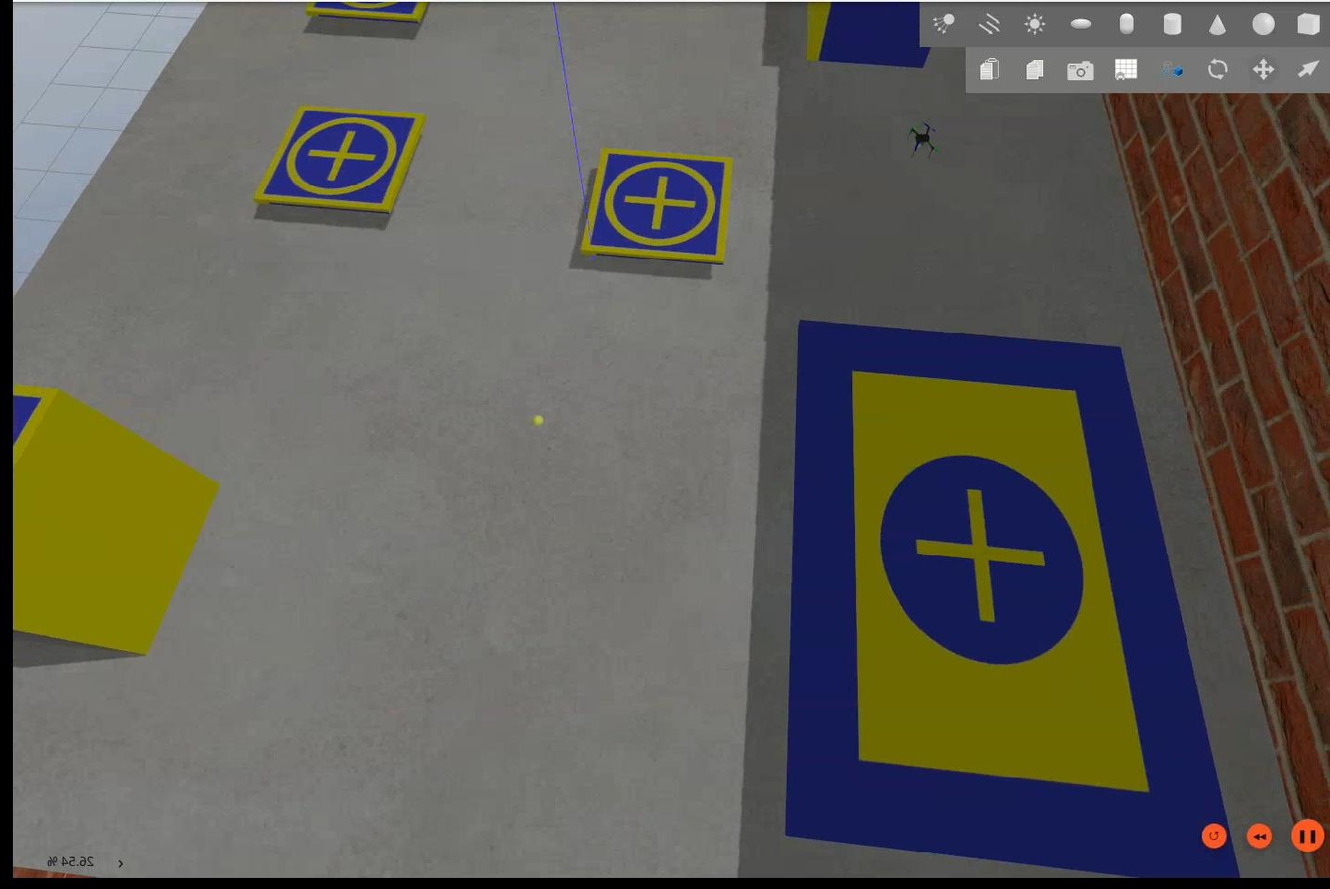large_base: (777, 319, 1238, 876)
small_base: (250, 108, 420, 221), (577, 151, 734, 271)
